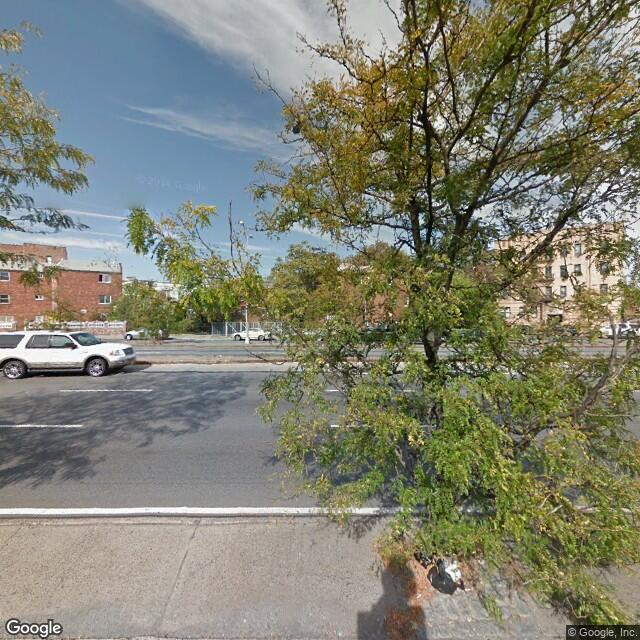litter: (426, 557, 465, 599)
